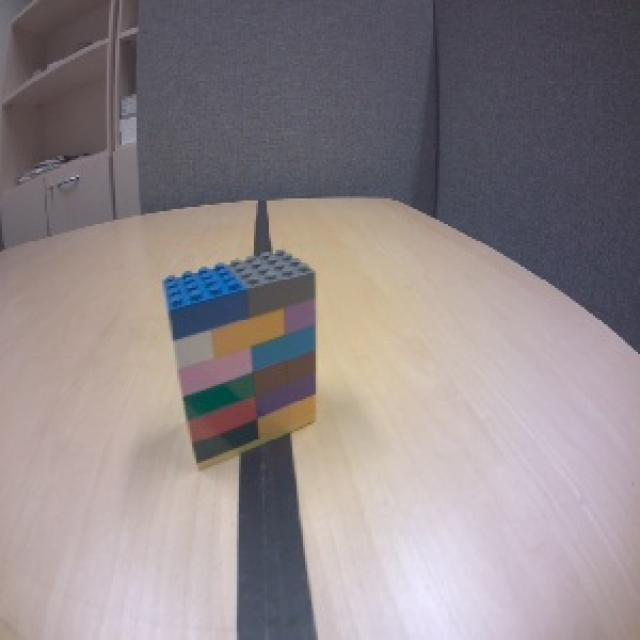obstacle: (159, 242, 322, 476)
